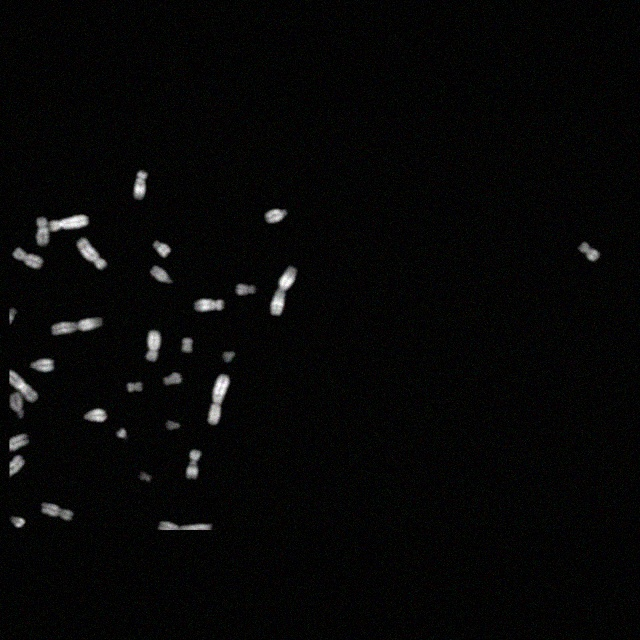chromosome: (270, 266, 298, 316), (208, 372, 230, 426), (52, 316, 102, 336), (77, 236, 106, 270), (9, 368, 37, 402), (48, 214, 90, 232), (12, 248, 44, 270), (42, 502, 72, 522), (184, 449, 202, 479), (148, 266, 174, 286), (132, 170, 148, 200), (145, 331, 161, 361), (29, 356, 55, 374), (194, 297, 223, 313), (578, 242, 600, 262), (264, 206, 288, 224), (10, 392, 25, 418), (36, 217, 49, 245), (9, 432, 29, 450), (83, 409, 107, 423), (10, 452, 24, 476), (153, 240, 171, 258), (234, 284, 256, 296), (164, 373, 182, 387), (10, 514, 25, 528), (116, 426, 129, 442), (182, 336, 193, 354), (138, 469, 152, 483), (164, 420, 181, 430), (126, 383, 142, 393), (222, 350, 235, 362)
